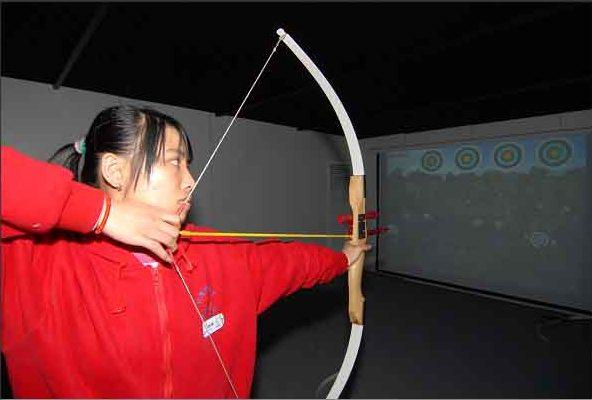person: (3, 104, 372, 399)
